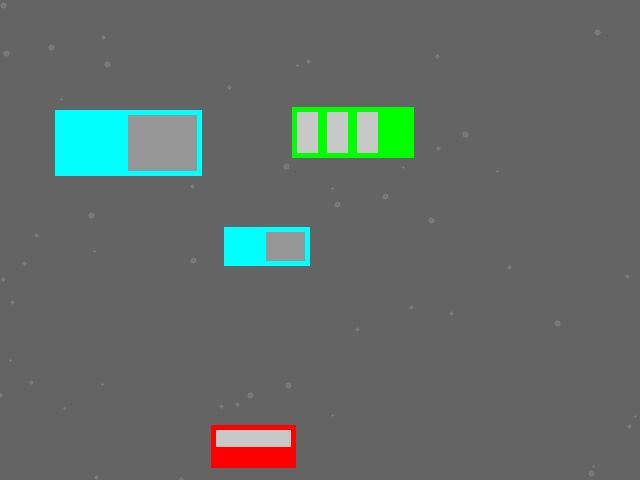bus: (292, 107, 413, 157)
car: (211, 425, 295, 467)
truck: (55, 110, 201, 175), (224, 227, 309, 265)
